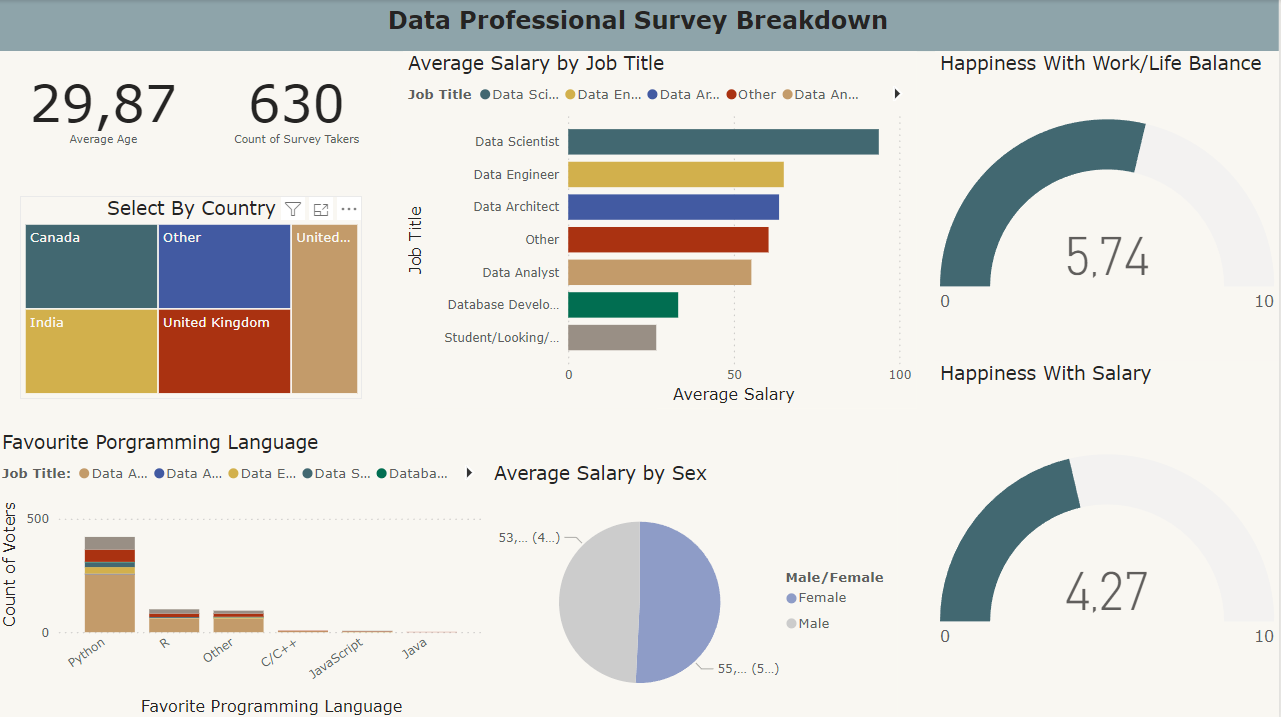

The dashboard page shown, as its layout file describes it:
{"tool":"powerbi","page":{"name":"Page 1","canvas":[1280,720],"ordinal":0},"visuals":[{"type":"textbox","box":[0,0,1280.1,51.3],"z":0},{"type":"card","fields":{"Values":["Avg(Data Professional Survey.Q10 - Current Age)"]},"box":[0,51.3,212.3,112.3],"z":1000},{"type":"card","fields":{"Values":["Count(Data Professional Survey.Unique ID)"]},"box":[205.6,51.3,186.7,112.3],"z":2000},{"type":"barChart","title":"Average Salary by Job Title","fields":{"Y":["Avg(Data Professional Survey.Average Salary)"],"Category":["Data Professional Survey.Q1 - Which Title Best Fits your Current Role?.1"],"Series":["Data Professional Survey.Q1 - Which Title Best Fits your Current Role?.1"]},"box":[405.7,51.2,512.7,356.9],"z":3000},{"type":"columnChart","title":"Favourite Porgramming Language","fields":{"Category":["Data Professional Survey.Q5 - Favorite Programming Language.1"],"Y":["CountNonNull(Data Professional Survey.Unique ID)"],"Series":["Data Professional Survey.Q1 - Which Title Best Fits your Current Role?.1"]},"box":[0,429.4,491.3,290.3],"z":4000},{"type":"treemap","title":"Select By Country","fields":{"Group":["Data Professional Survey.Q11 - Which Country do you live in?.1"],"Values":["Count(Data Professional Survey.Q11 - Which Country do you live in?.1)"]},"box":[22.6,195.9,342.3,202.6],"z":5000},{"type":"gauge","title":"Happiness With Work/Life Balance","fields":{"Y":["Avg(Data Professional Survey.Q6 - How Happy are you in your Current Position with the following? (Work/Life Balance))"],"MinValue":["Min(Data Professional Survey.Q6 - How Happy are you in your Current Position with the following? (Work/Life Balance))"],"MaxValue":["Max(Data Professional Survey.Q6 - How Happy are you in your Current Position with the following? (Upward Mobility))"]},"box":[936.2,51.2,343.8,309.3],"z":6000},{"type":"gauge","title":"Happiness With Salary","fields":{"Y":["Avg(Data Professional Survey.Q6 - How Happy are you in your Current Position with the following? (Salary))"],"MinValue":["Min(Data Professional Survey.Q6 - How Happy are you in your Current Position with the following? (Salary))"],"MaxValue":["Max(Data Professional Survey.Q6 - How Happy are you in your Current Position with the following? (Salary))"]},"box":[936.2,360.4,343.8,359.3],"z":7000},{"type":"pieChart","title":"Average Salary by Sex","fields":{"Category":["Data Professional Survey.Q9 - Male/Female?"],"Y":["Avg(Data Professional Survey.Average Salary)"]},"box":[491.3,460.4,408,259.3],"z":8000}]}

Visuals, with their boxes in screenshot pixels (x1, y1, x2, y2), scaled from the page's 1280x720 canvas onto the 1281x717 screenshot:
textbox: locate(0, 0, 1280, 51)
card - Avg(Data Professional Survey.Q10 - Current Age): locate(0, 51, 212, 163)
card - Count(Data Professional Survey.Unique ID): locate(206, 51, 393, 163)
"Average Salary by Job Title" barChart: locate(406, 51, 919, 406)
"Favourite Porgramming Language" columnChart: locate(0, 428, 492, 716)
"Select By Country" treemap: locate(23, 195, 365, 397)
"Happiness With Work/Life Balance" gauge: locate(937, 51, 1280, 359)
"Happiness With Salary" gauge: locate(937, 359, 1280, 716)
"Average Salary by Sex" pieChart: locate(492, 458, 900, 716)
